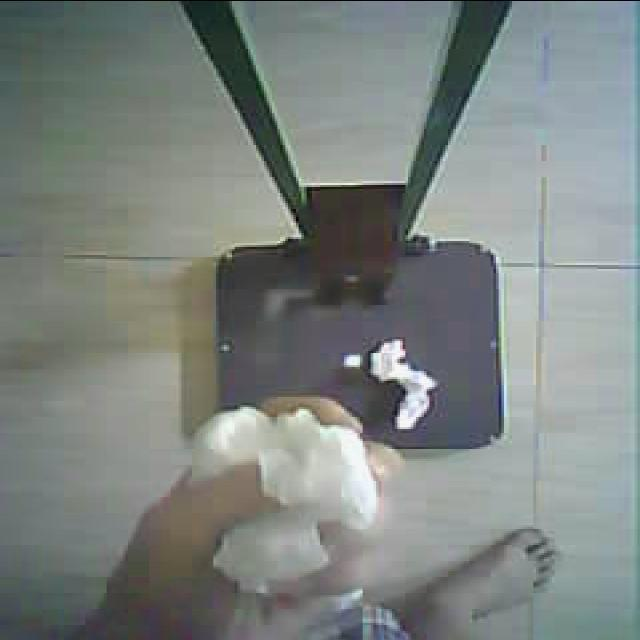Paper: (187, 406, 386, 586)
